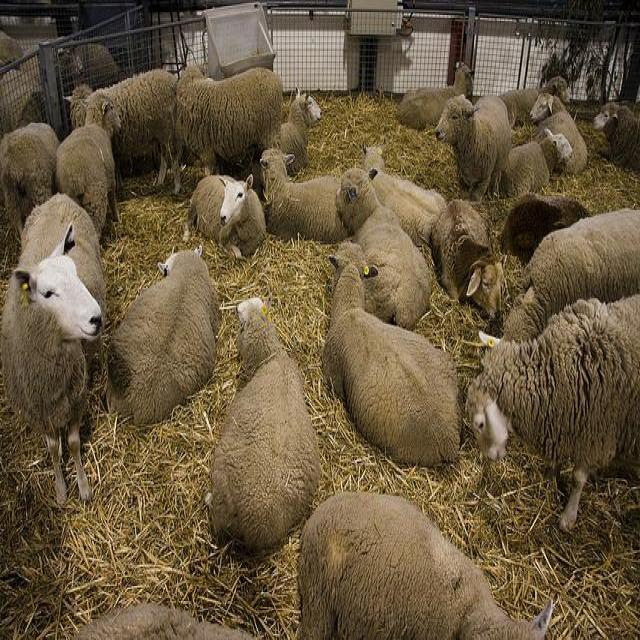Sheep: (1, 51, 639, 376), (464, 291, 639, 534), (294, 490, 552, 639), (321, 235, 463, 469), (5, 193, 107, 511), (211, 285, 324, 547), (109, 248, 222, 428), (500, 207, 639, 340), (336, 164, 439, 328), (173, 64, 284, 200), (62, 69, 180, 189), (361, 139, 447, 249), (434, 94, 512, 204), (182, 172, 269, 261)
